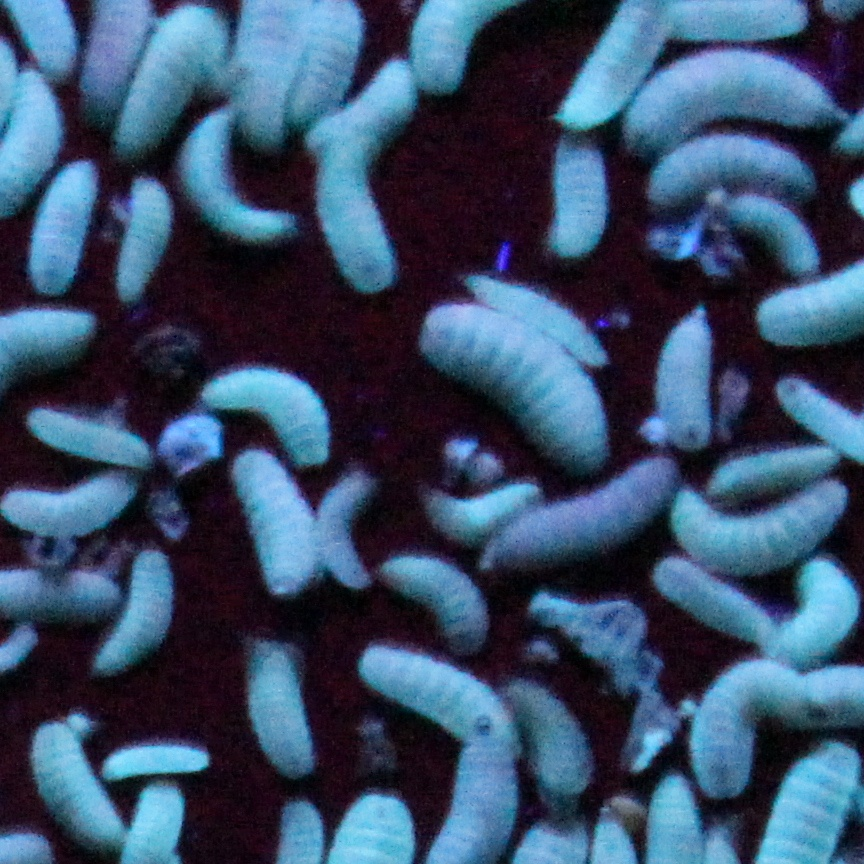larve: (423, 304, 607, 467), (490, 462, 680, 562), (103, 9, 223, 147), (353, 654, 523, 747), (669, 483, 841, 573), (174, 114, 292, 239), (689, 660, 794, 800), (543, 1, 664, 121), (628, 52, 836, 121), (228, 449, 320, 590), (321, 137, 398, 296), (210, 372, 335, 465), (472, 273, 607, 359), (28, 722, 115, 852), (643, 131, 825, 193), (92, 545, 172, 672), (648, 572, 784, 645), (384, 557, 490, 650), (20, 155, 94, 283), (774, 557, 861, 655), (25, 400, 149, 468), (243, 655, 312, 775), (231, 8, 294, 139), (538, 134, 608, 250), (656, 306, 710, 445), (718, 195, 813, 272), (312, 67, 408, 142), (426, 486, 567, 534), (318, 467, 374, 585), (716, 447, 836, 500), (84, 9, 149, 101), (112, 180, 167, 286), (659, 1, 805, 40), (310, 11, 362, 106), (108, 736, 207, 783)
